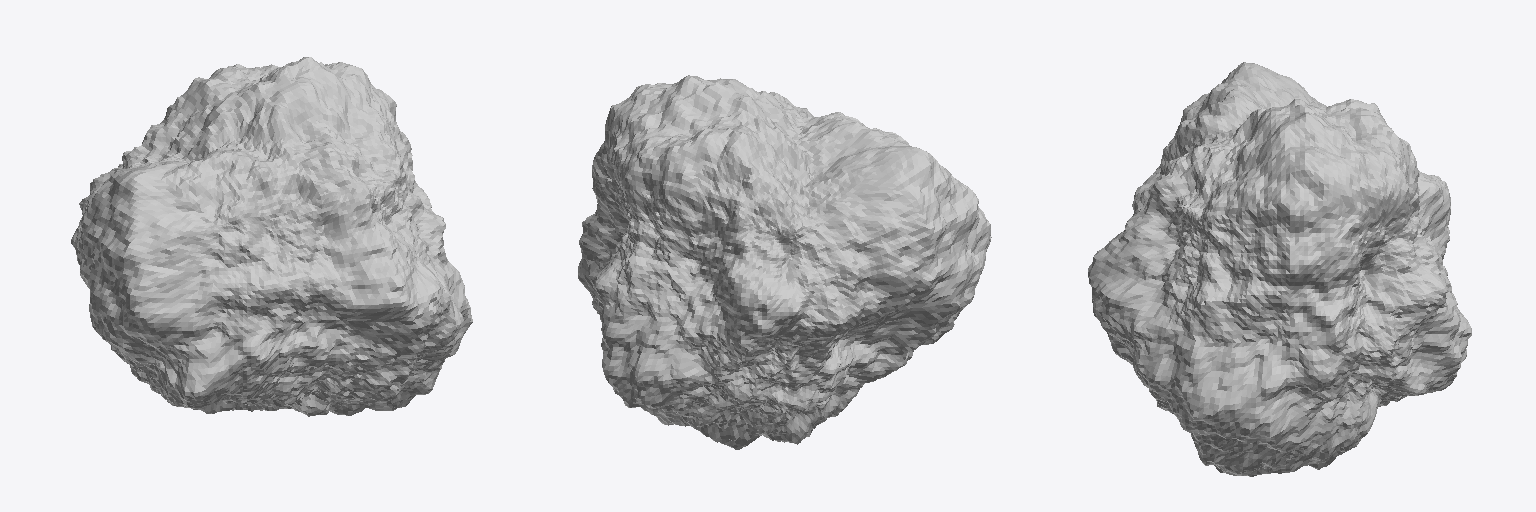
The model's file is asteroid.obj.
The picture shows the model from 3 angles: view 1: azimuth 30°, elevation 25°; view 2: azimuth 150°, elevation 25°; view 3: azimuth 270°, elevation 25°; orthographic projection.
Parts seen in each view (by area): view 1: Cube; view 2: Cube; view 3: Cube.
Boxes of the visible parts, x1,y1,x2,y2 form: Cube: [71, 57, 472, 416]; Cube: [578, 75, 991, 449]; Cube: [1088, 62, 1471, 476].
Bounding box in the file's own units: 1.91 × 1.75 × 1.76.